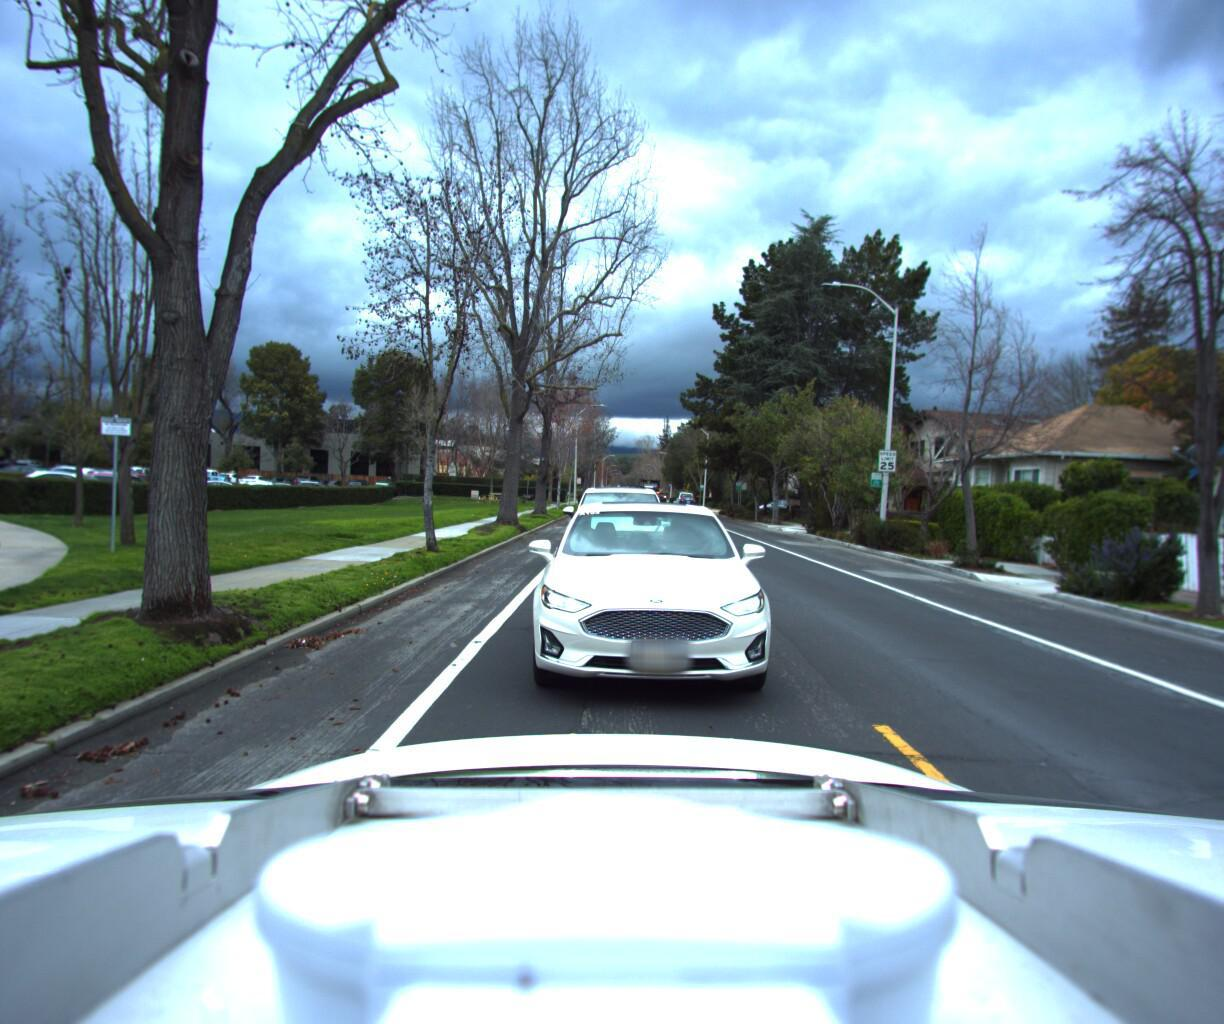car: (511, 494, 803, 735), (565, 484, 676, 575)
